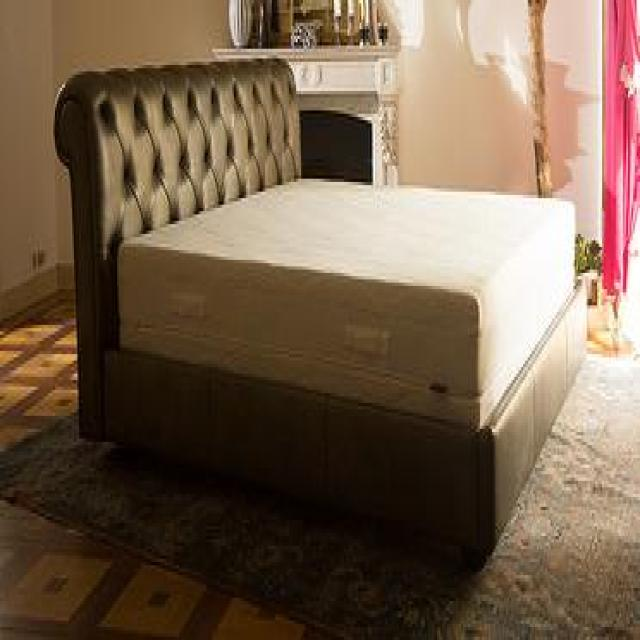bed: (51, 55, 586, 569)
